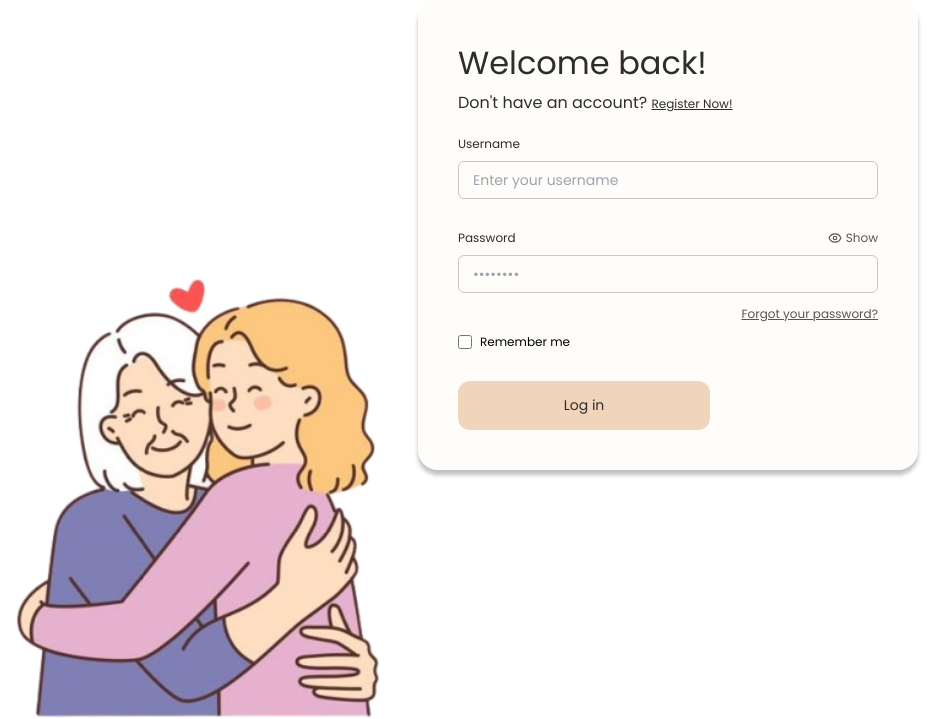
LoginCard component › displays error message when login fails
The image size is (937, 719).
Type "Bearson" into the field with placeholder "Enter your username" at (668, 180), box top-left (458, 161), bottom-right (878, 199)
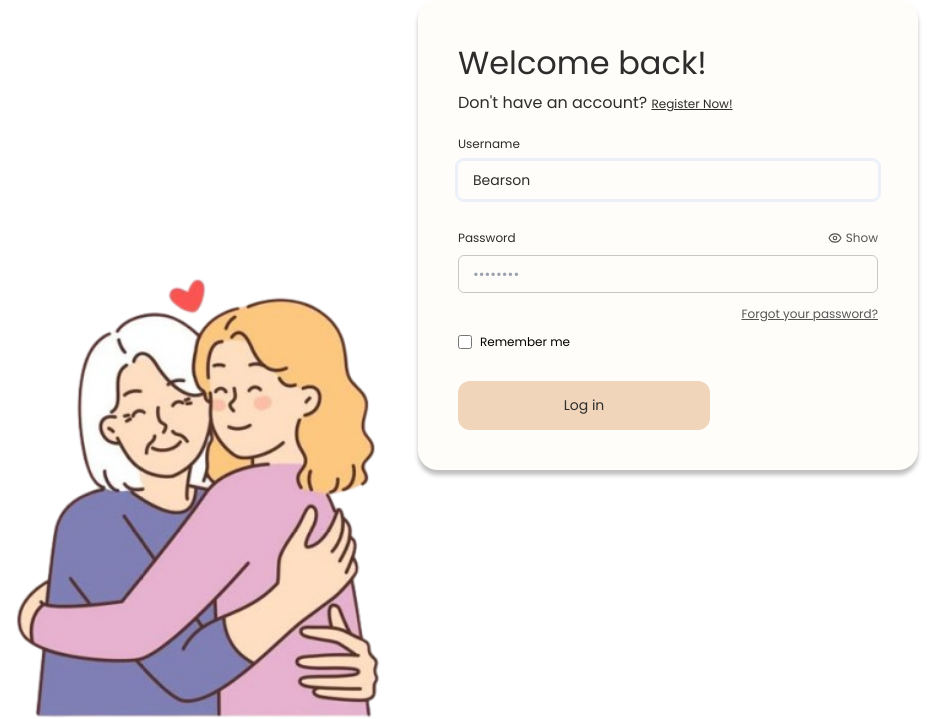
Type "wrongpassword" into the password field with placeholder "••••••••" at (668, 274), box top-left (458, 255), bottom-right (878, 293)
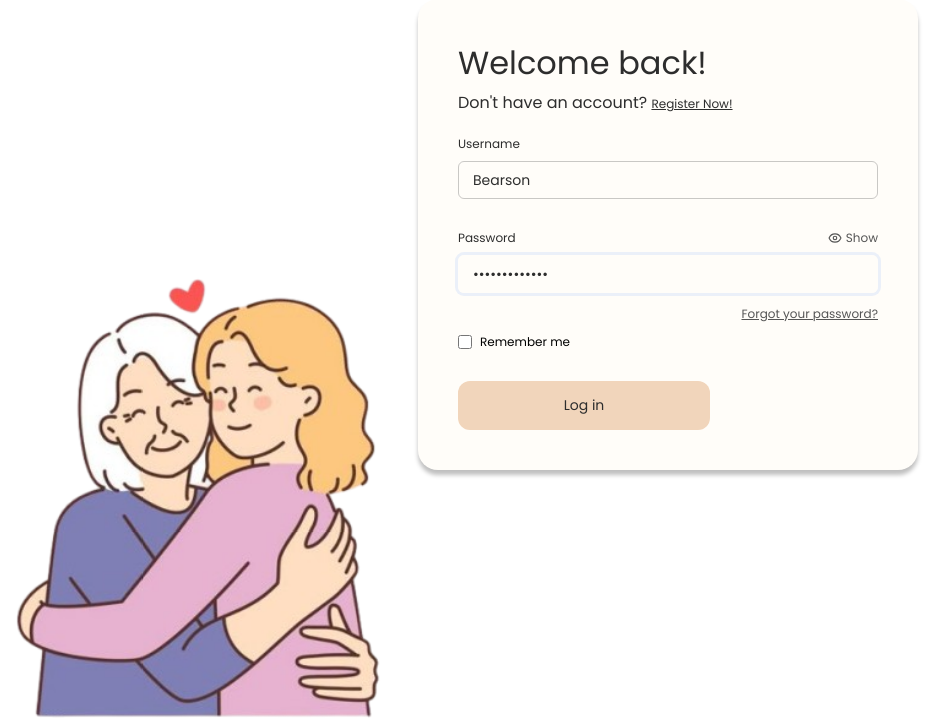
Click the button "Log in" at (584, 406), box top-left (458, 381), bottom-right (710, 430)
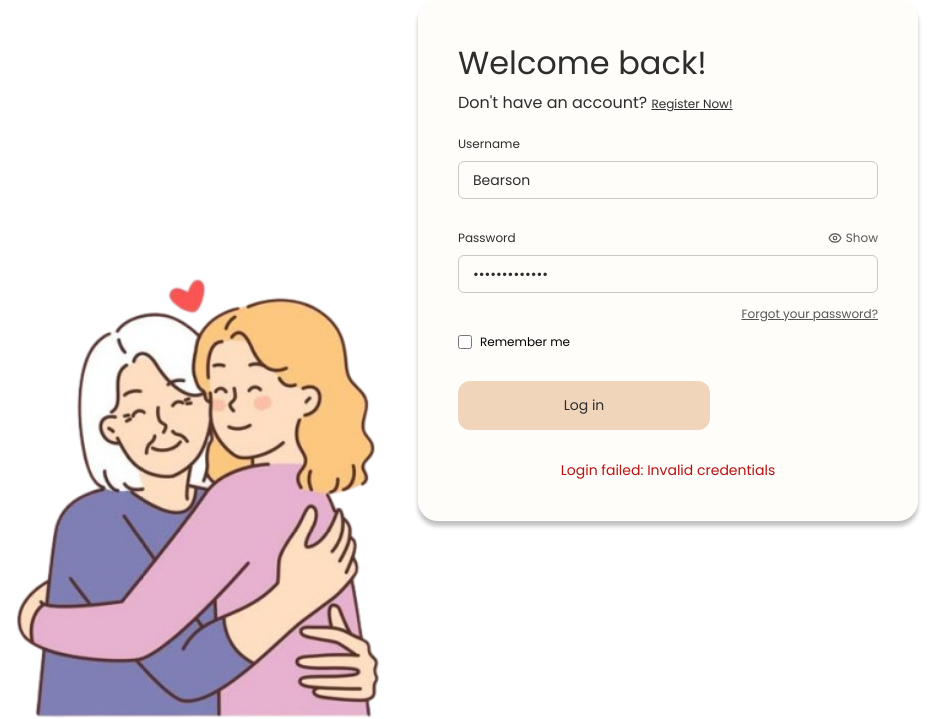
Expected: the text "Login failed: Invalid credentials" is shown, top-left (561, 460), bottom-right (775, 480)
